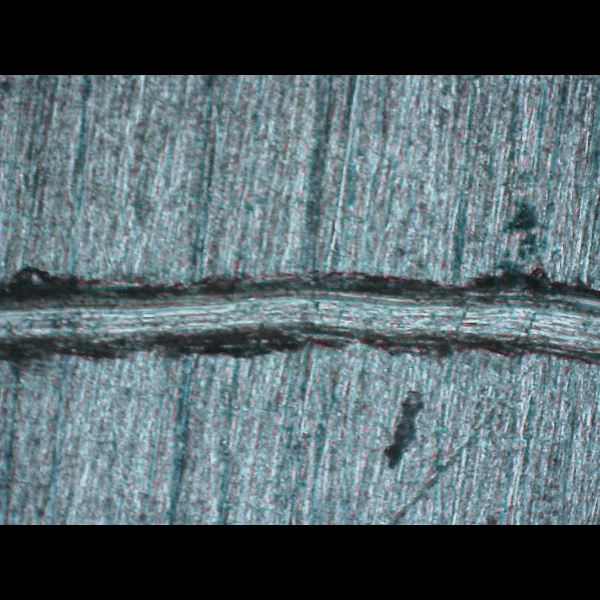d: (4, 264, 600, 376)
